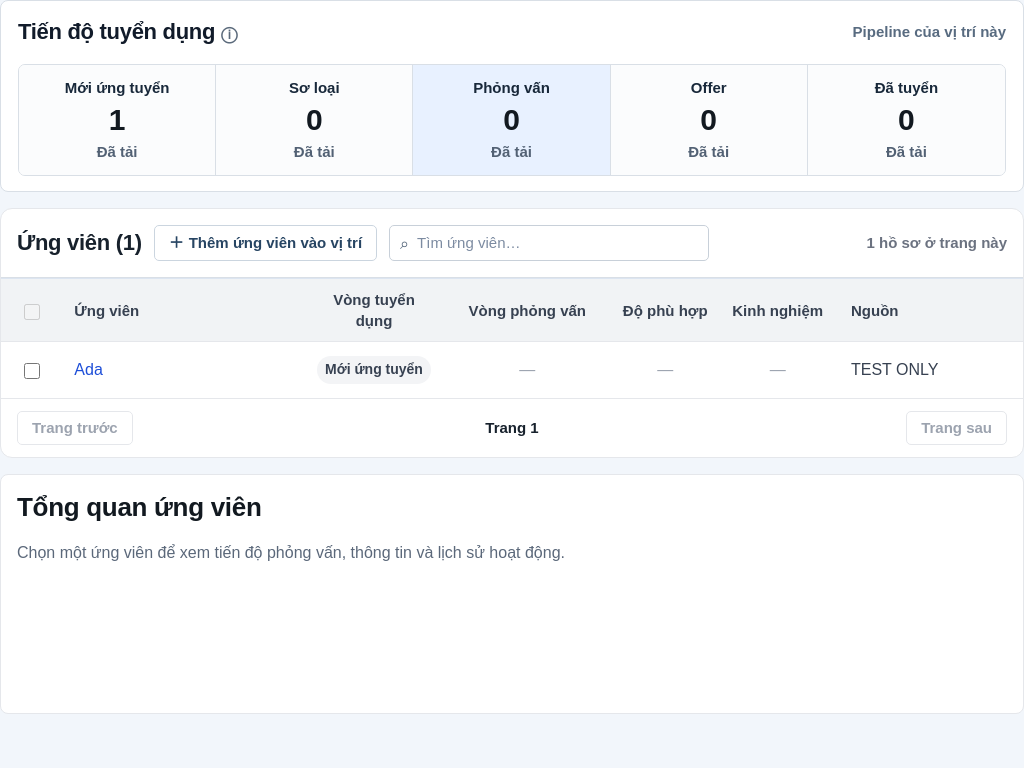
Bosch list-only hiring pipeline › closes detail when a new search has no results
Click the button "Ada". click: (89,370)
box: [74,358,103,382]
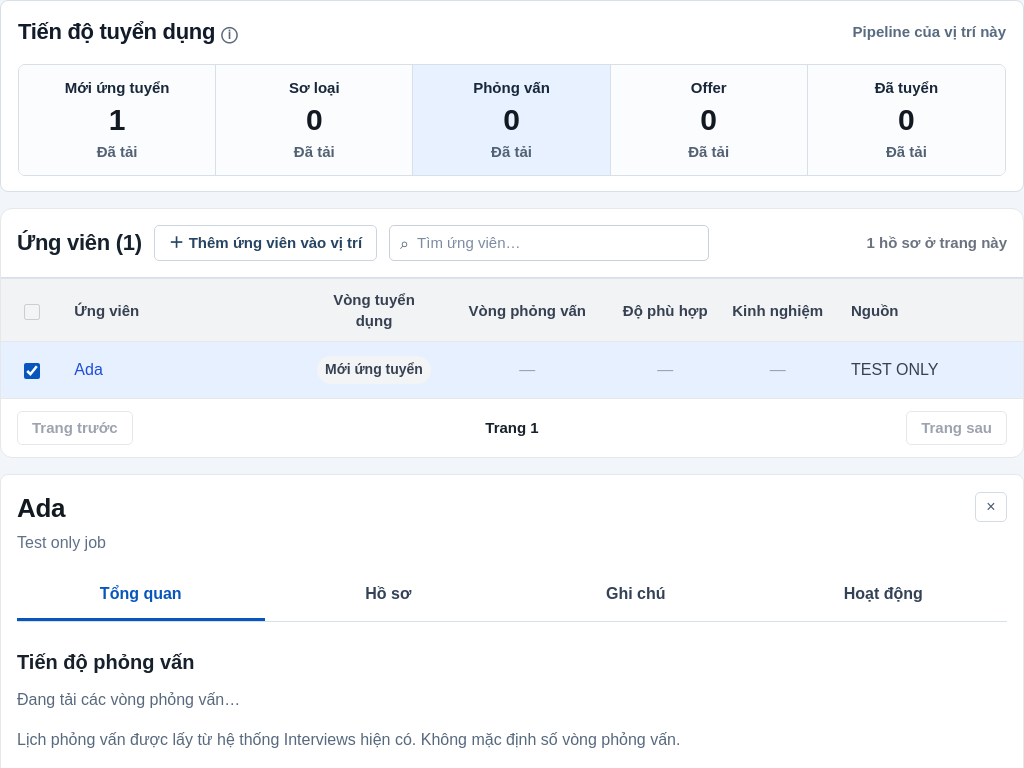
Type "No matching candidate" into the field named "Tìm ứng viên trong vị trí này". click: (557,243)
box: [415,231,698,255]
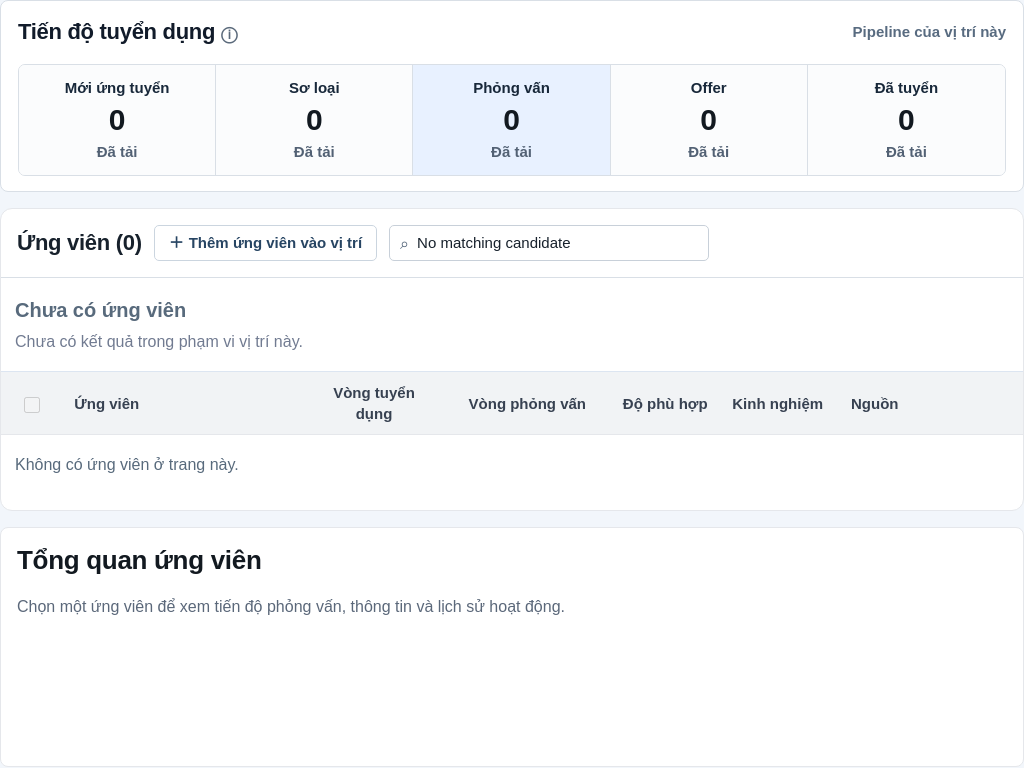
Expected: the heading "Chưa có ứng viên" is shown, [15,299,186,321]
